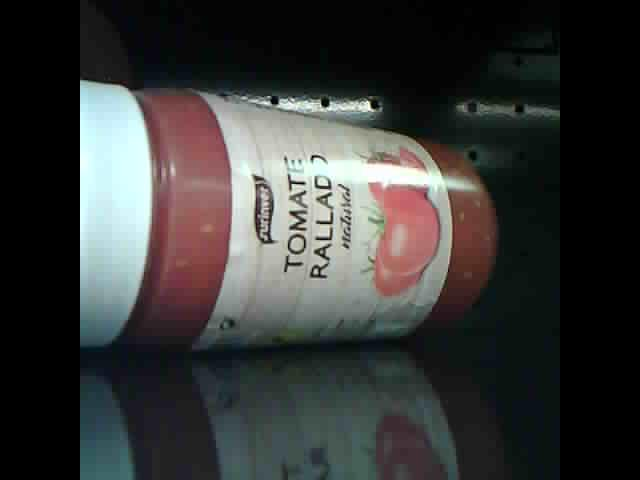tomate: (81, 75, 499, 351)
